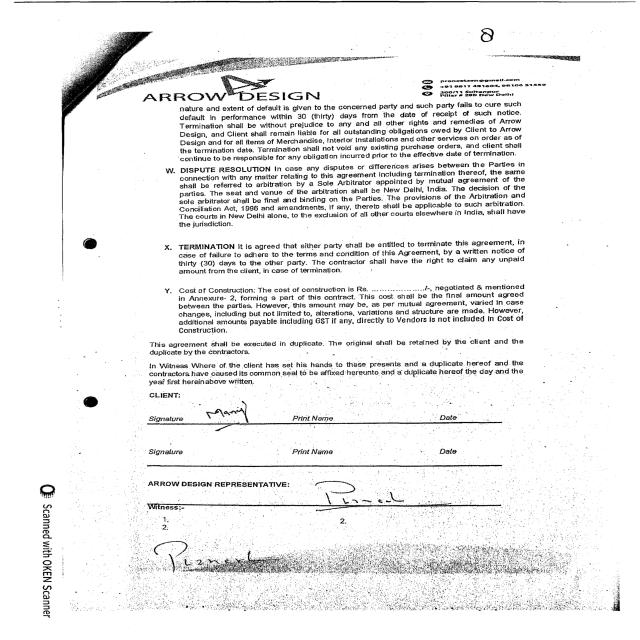page-number: (438, 7, 626, 50)
